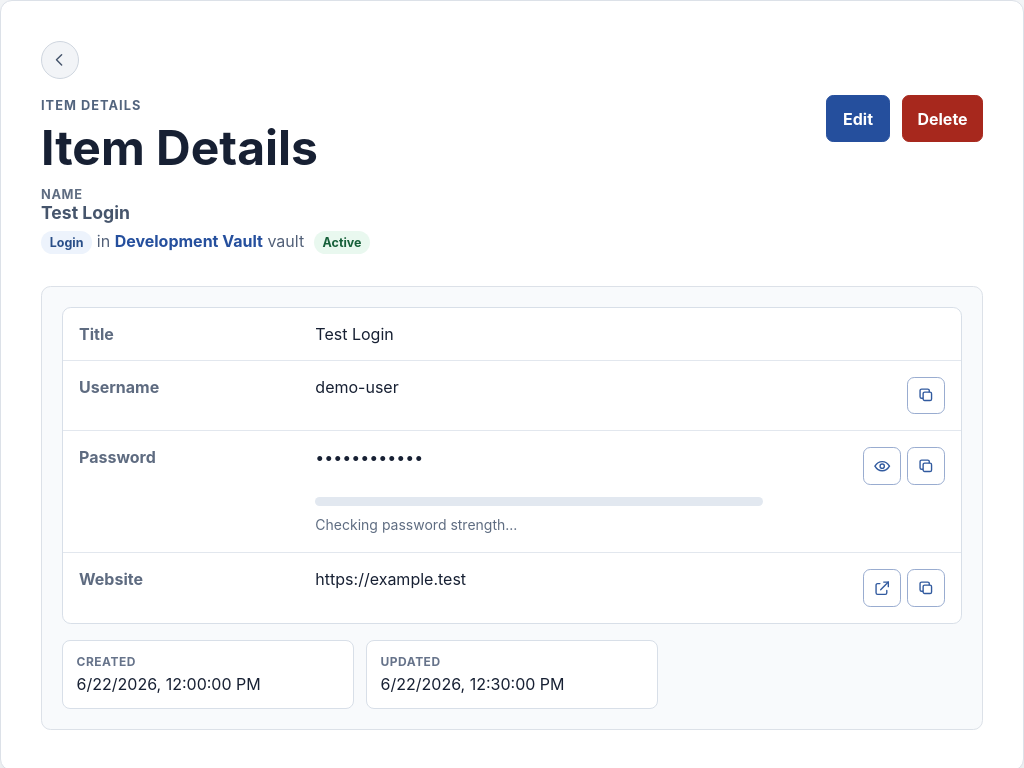
ItemDetailPage › updates an item through a modal with If-Match
Click the button "Edit" at coordinates (858, 119), box [826,95,890,142]
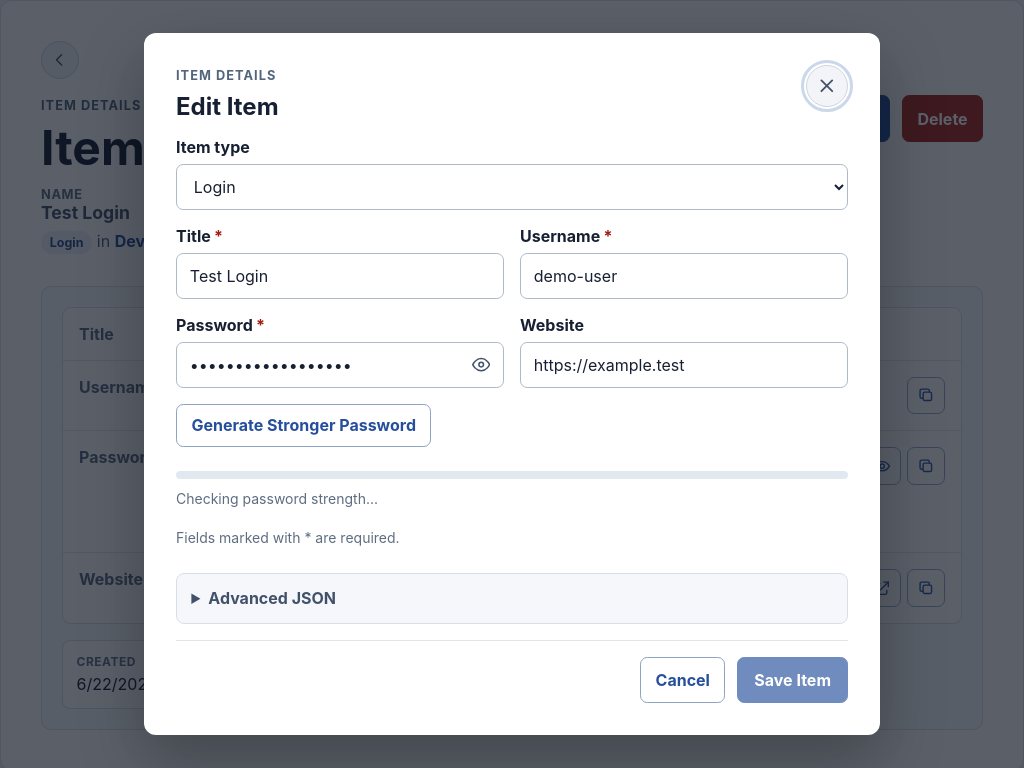
Replace the text in the field labelled "Title" with "Updated Login" at coordinates (340, 276), box [176,254,504,299]
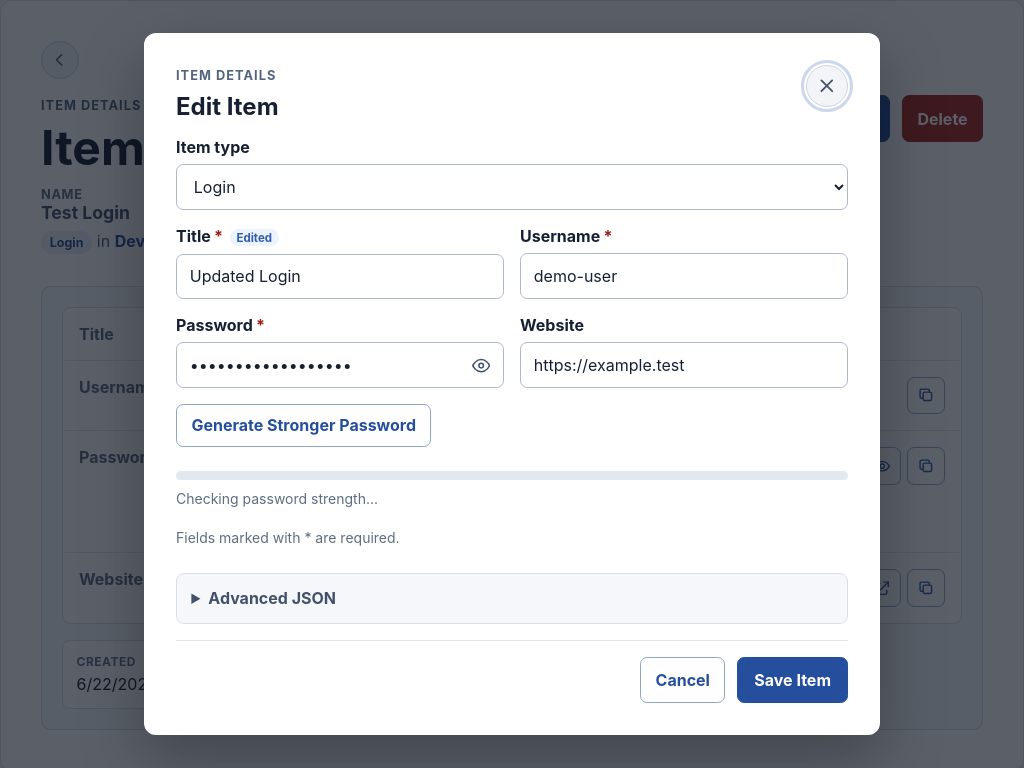
Click the button "Save Item" at coordinates (793, 680), box [737,657,848,703]
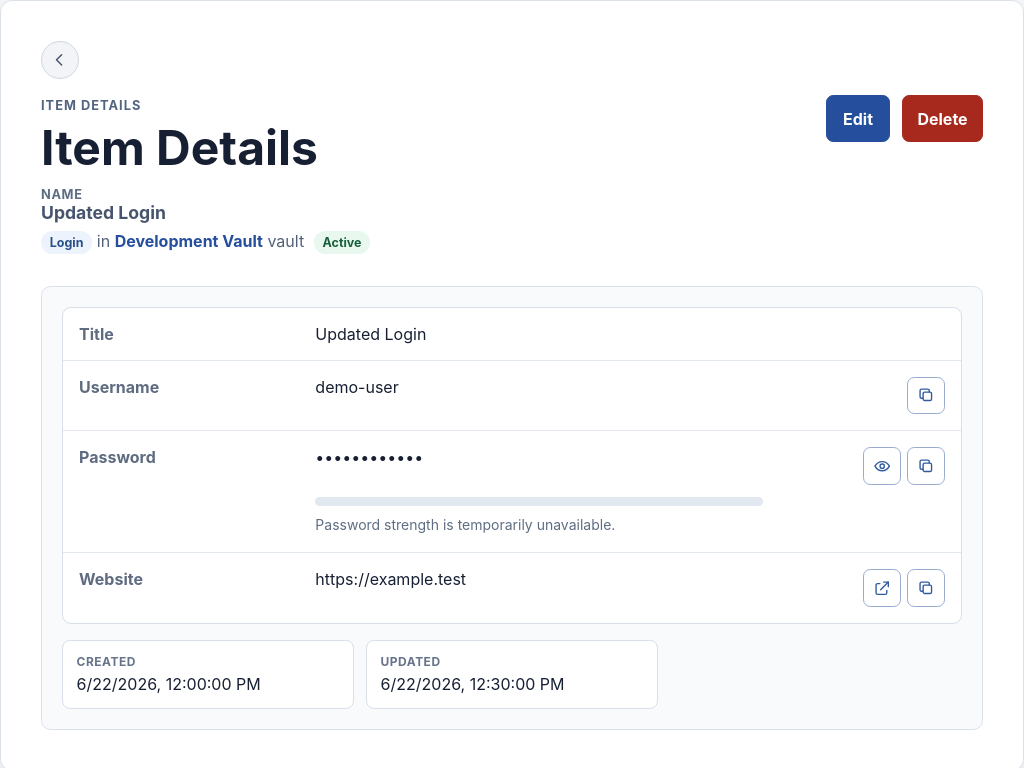
Now the 1st text "Updated Login" is shown, box [41,202,166,223]
Now the heading "Edit Item" is gone
